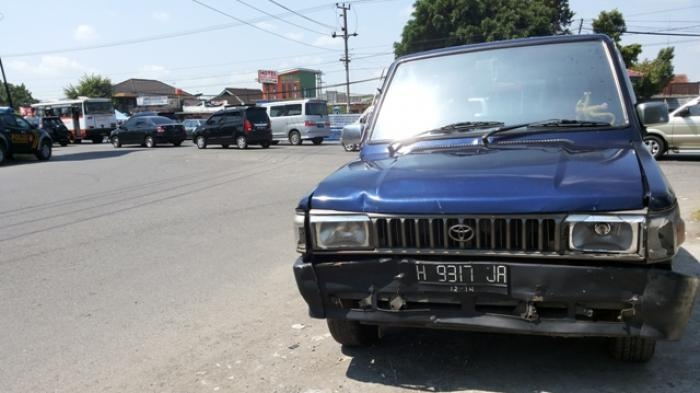plate: (417, 262, 508, 295)
